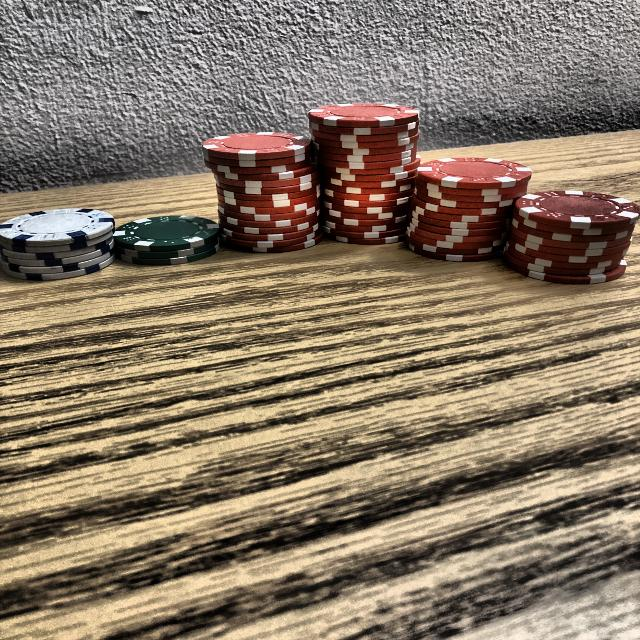Chip: (190, 110, 338, 262), (302, 86, 431, 260), (400, 133, 543, 278), (505, 163, 633, 300), (0, 196, 115, 294), (106, 210, 224, 270)
